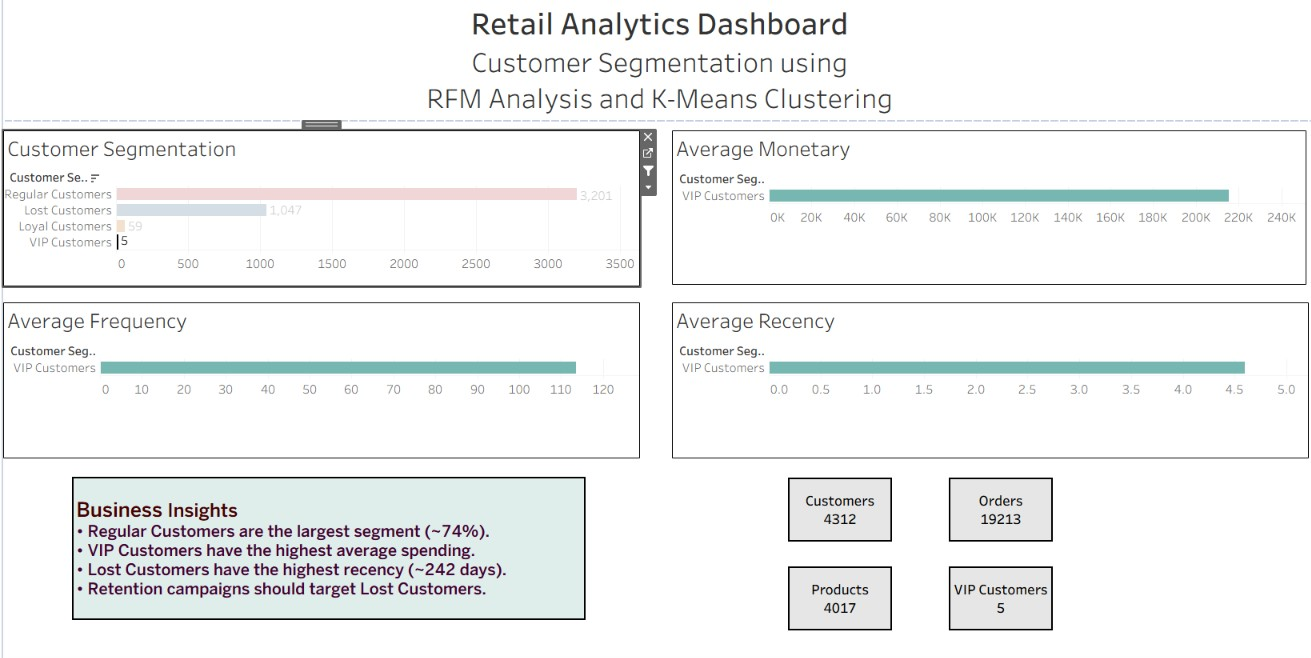

The dashboard page shown, as its layout file describes it:
{"tool":"tableau","page":{"name":"Dashboard 1","canvas":[1000,1000],"units":"permille","ordinal":0},"visuals":[{"type":"title","box":[4.8,9.5,990.3,178.5]},{"type":"worksheet","title":"Customer Segmentation","mark":"Automatic","rows":["Customer_Segment"],"cols":["Customer ID"],"box":[4.8,203.3,480.4,230.5]},{"type":"worksheet","title":"Average Monetary","mark":"Automatic","rows":["Customer_Segment"],"cols":["Monetary"],"box":[509.4,203.3,478.6,228.1]},{"type":"worksheet","title":"Average Frequency","mark":"Automatic","rows":["Customer_Segment"],"cols":["Frequency"],"box":[4.8,457.4,480.4,230.5]},{"type":"worksheet","title":"Average Recency","mark":"Automatic","rows":["Customer_Segment"],"cols":["Recency"],"box":[509.4,457.4,480.4,230.5]},{"type":"text","box":[56.7,715.1,387.4,211.6]},{"type":"text","box":[596.9,716.3,78.5,94.6]},{"type":"text","box":[718.2,716.3,78.5,94.6]},{"type":"text","box":[596.9,847.5,78.5,94.6]},{"type":"text","box":[718.2,847.5,78.5,94.6]}]}

Visuals, with their boxes on the dashboard's canvas, which has no fixed pixel size, in thousandths of its width and height (x1, y1, x2, y2). These are canvas units, not pixel positions in the 1311x658 screenshot, which may show the page scaled, cropped or inside an application window:
title: 5,10,995,188
"Customer Segmentation" worksheet: 5,203,485,434
"Average Monetary" worksheet: 509,203,988,431
"Average Frequency" worksheet: 5,457,485,688
"Average Recency" worksheet: 509,457,990,688
text: 57,715,444,927
text: 597,716,675,811
text: 718,716,797,811
text: 597,848,675,942
text: 718,848,797,942
